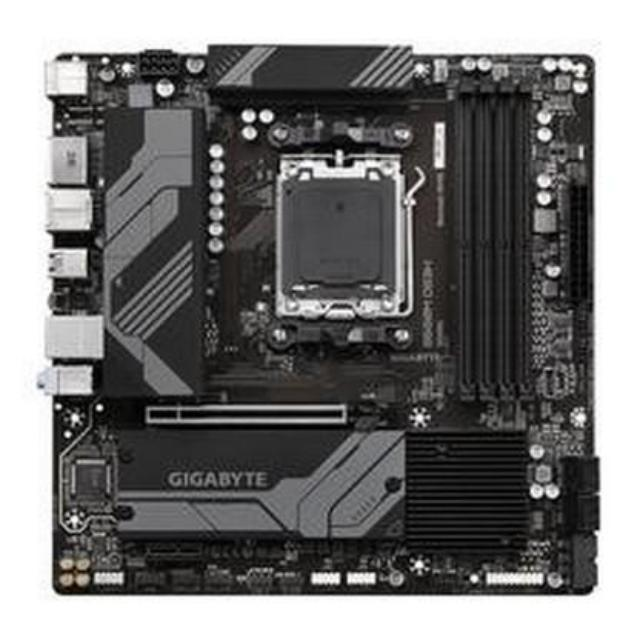Mainboard: (14, 0, 638, 640)
